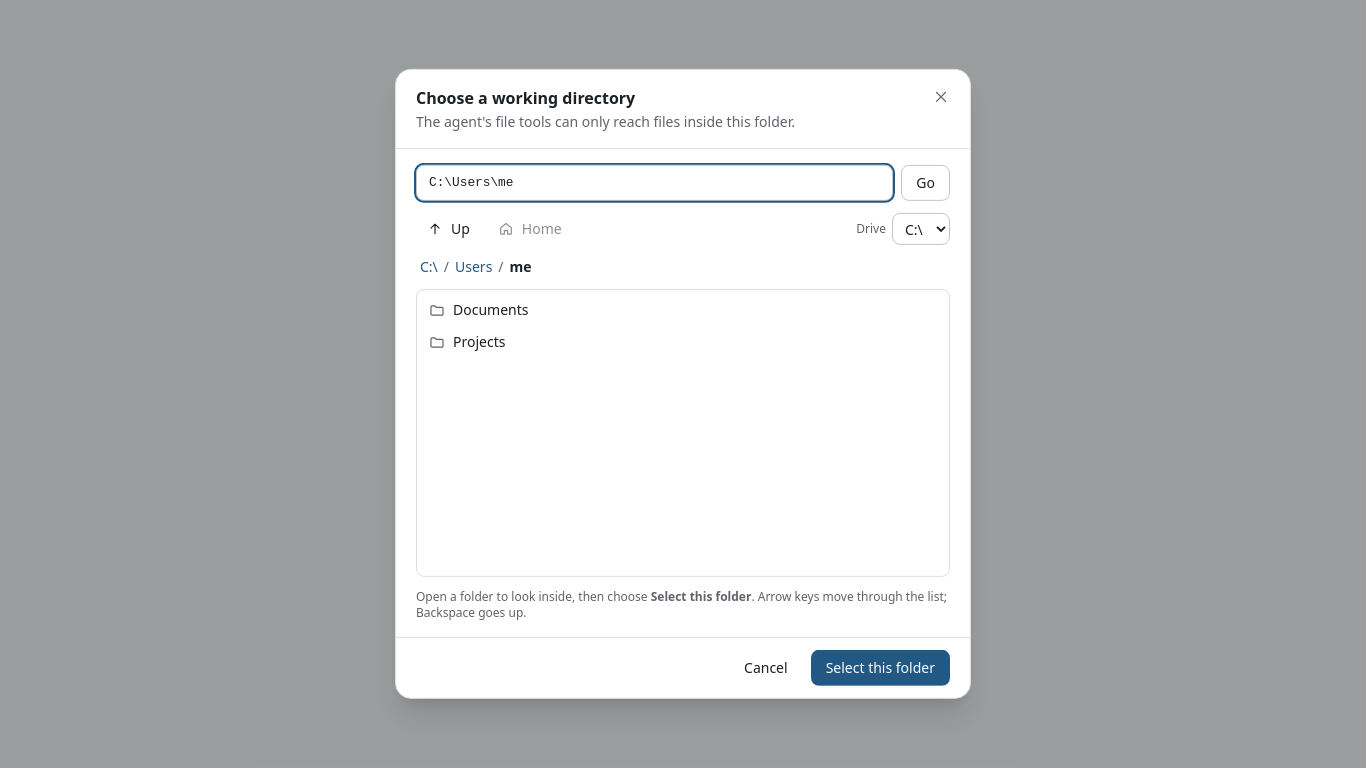
Test case: FolderPickerDialog › starts in the home folder and enters a sub-folder on click
The width and height of the screenshot is (1366, 768).
Expected: the text "me" is shown, [510,257,532,276]
Expected: the field named "folder path" holds "C:\\Users\\me", [416,165,893,201]
Click the button "Projects" at (479, 342), box [417,326,949,358]
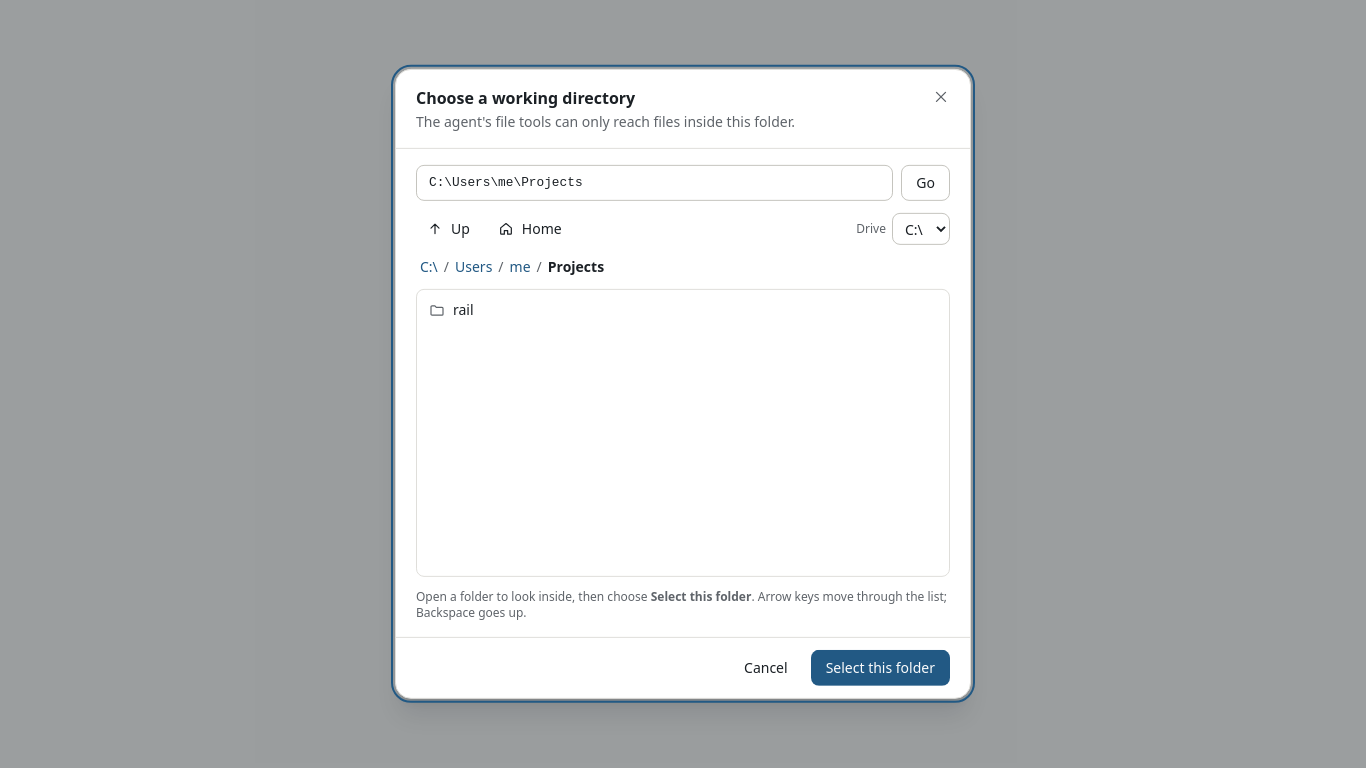
Expected: the text "Projects" is shown, [544,257,608,277]
Expected: the button "rail" is shown, [417,294,949,326]
